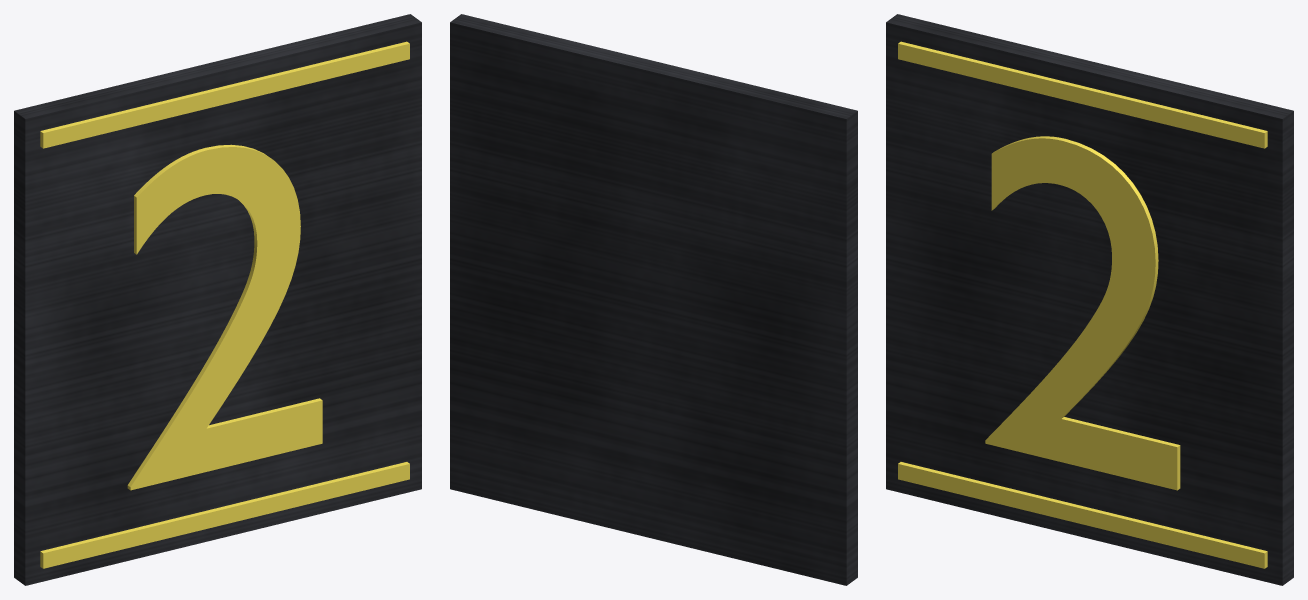
The model's file is Sign_Main_2.fbx.
The picture shows the model from 3 angles, left to right: view 1: azimuth 30°, elevation 25°; view 2: azimuth 150°, elevation 25°; view 3: azimuth 330°, elevation 25°; orthographic projection.
Parts seen in each view (by area): view 1: Sign_Main_2; view 2: Sign_Main_2; view 3: Sign_Main_2.
Part boxes in pixels (left/top/right/bottom): Sign_Main_2: left=14, top=14, right=421, bottom=585; Sign_Main_2: left=450, top=14, right=857, bottom=585; Sign_Main_2: left=886, top=14, right=1293, bottom=585.
Size of the model in its own units: 0.8 by 0.9 by 0.05.
Materials: 2 (1 with a texture image).
